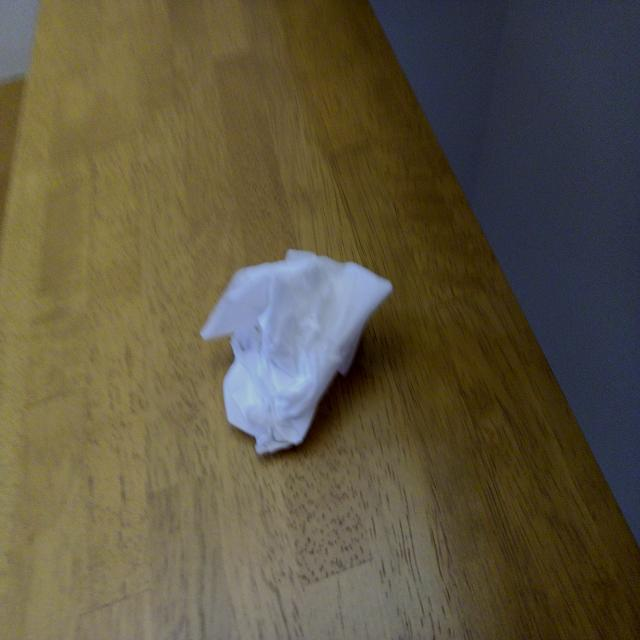Paper: (194, 200, 381, 418)
